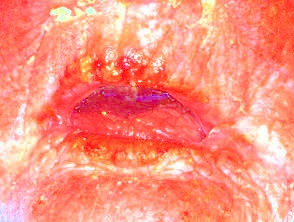SJS-TEN: (21, 36, 234, 139), (13, 121, 264, 202)
